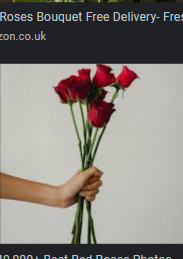RedRose: (87, 98, 115, 129), (92, 63, 117, 90), (116, 65, 140, 91), (54, 78, 77, 105), (66, 75, 89, 99), (76, 67, 91, 92)
